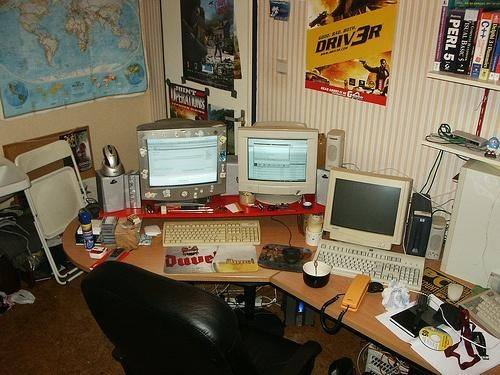chair: (83, 262, 325, 375), (15, 139, 102, 286)
tvmonitor: (137, 114, 227, 210), (325, 163, 415, 252), (237, 121, 319, 208)
